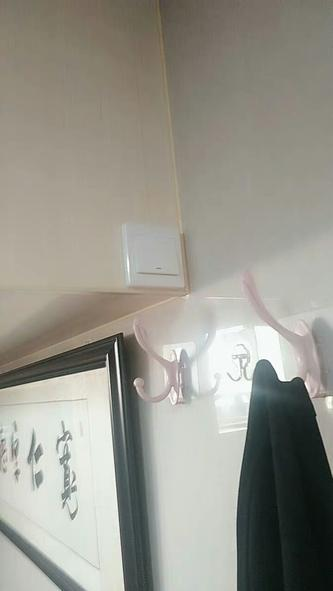switch: (127, 229, 183, 282)
